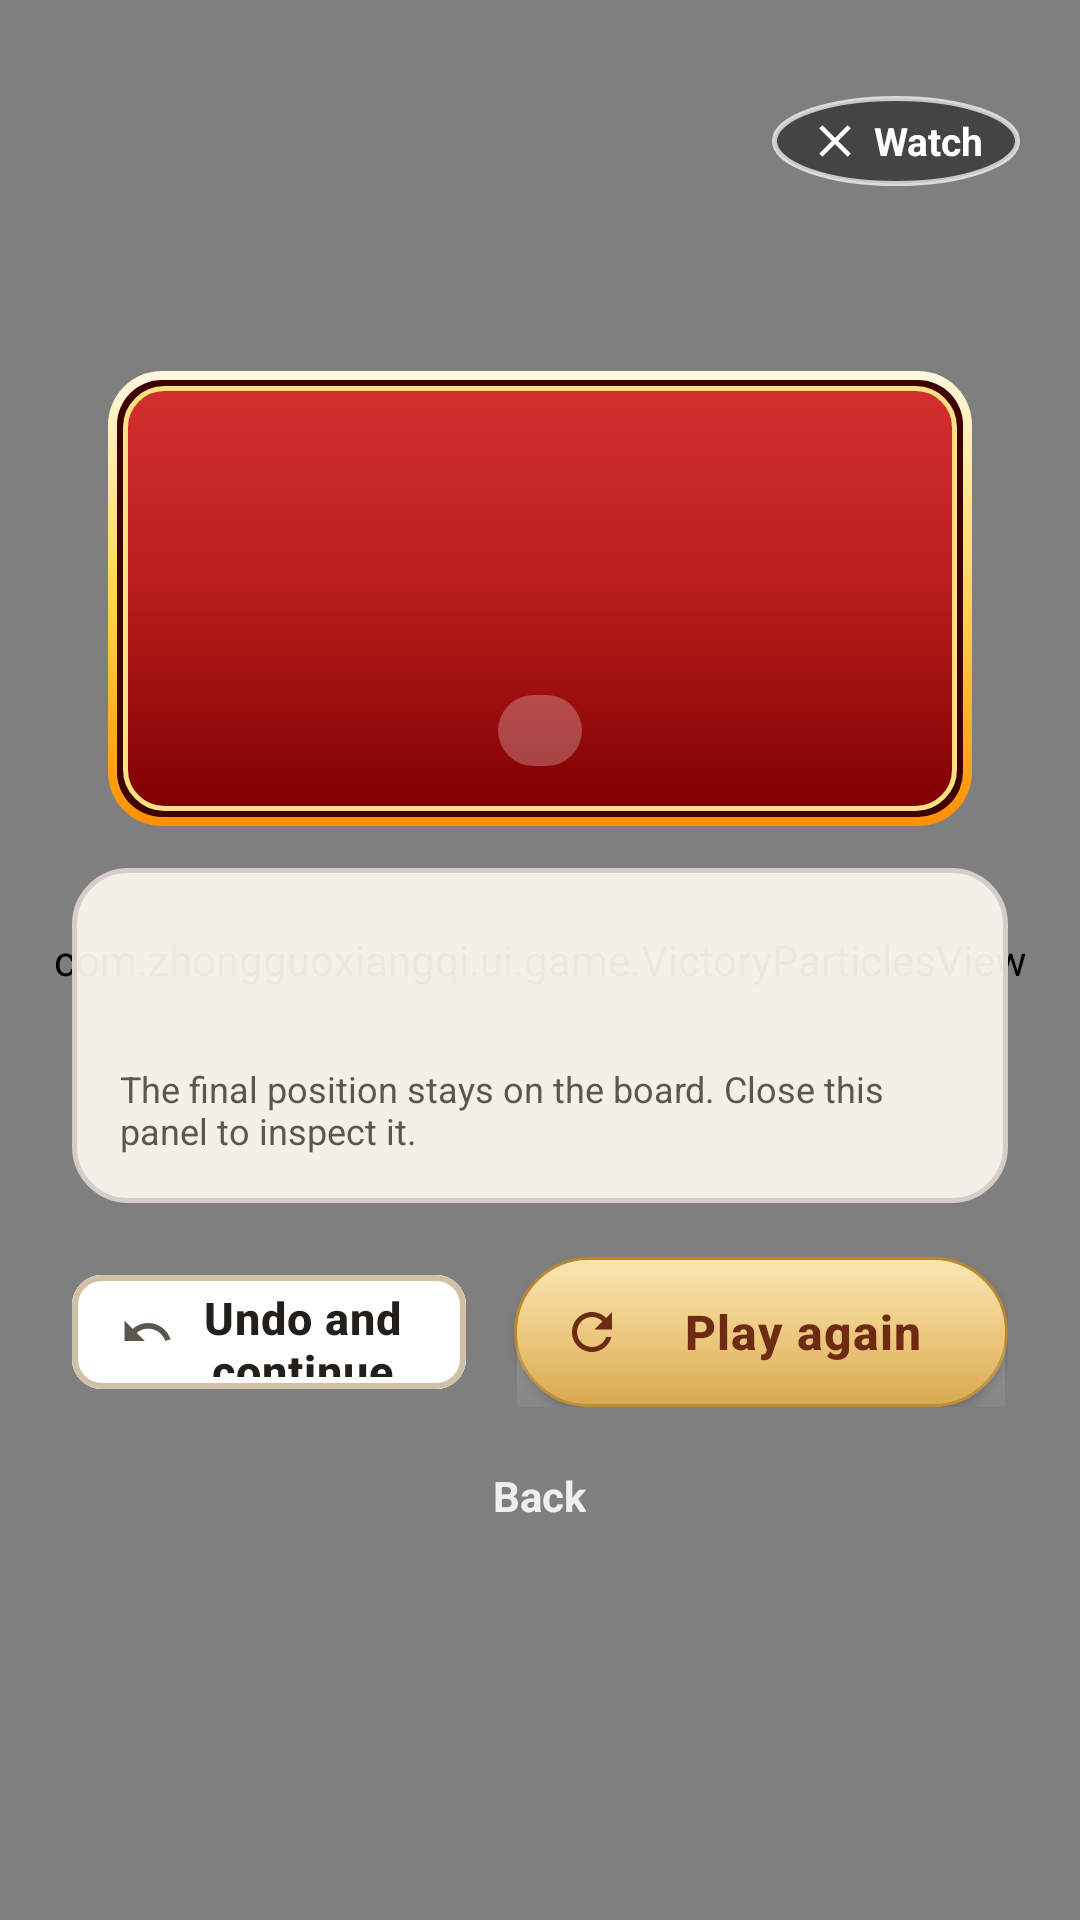

Point at icon controls on the screen. Image size 1080px x 1920px, points as point (x, y).
Close result, view board: point (835, 141)
